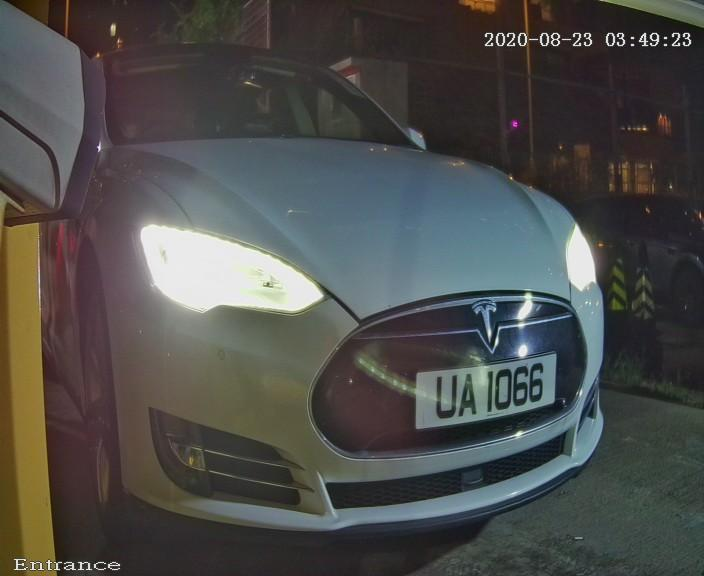Car: (10, 1, 683, 574)
License Plate: (373, 321, 587, 449)
